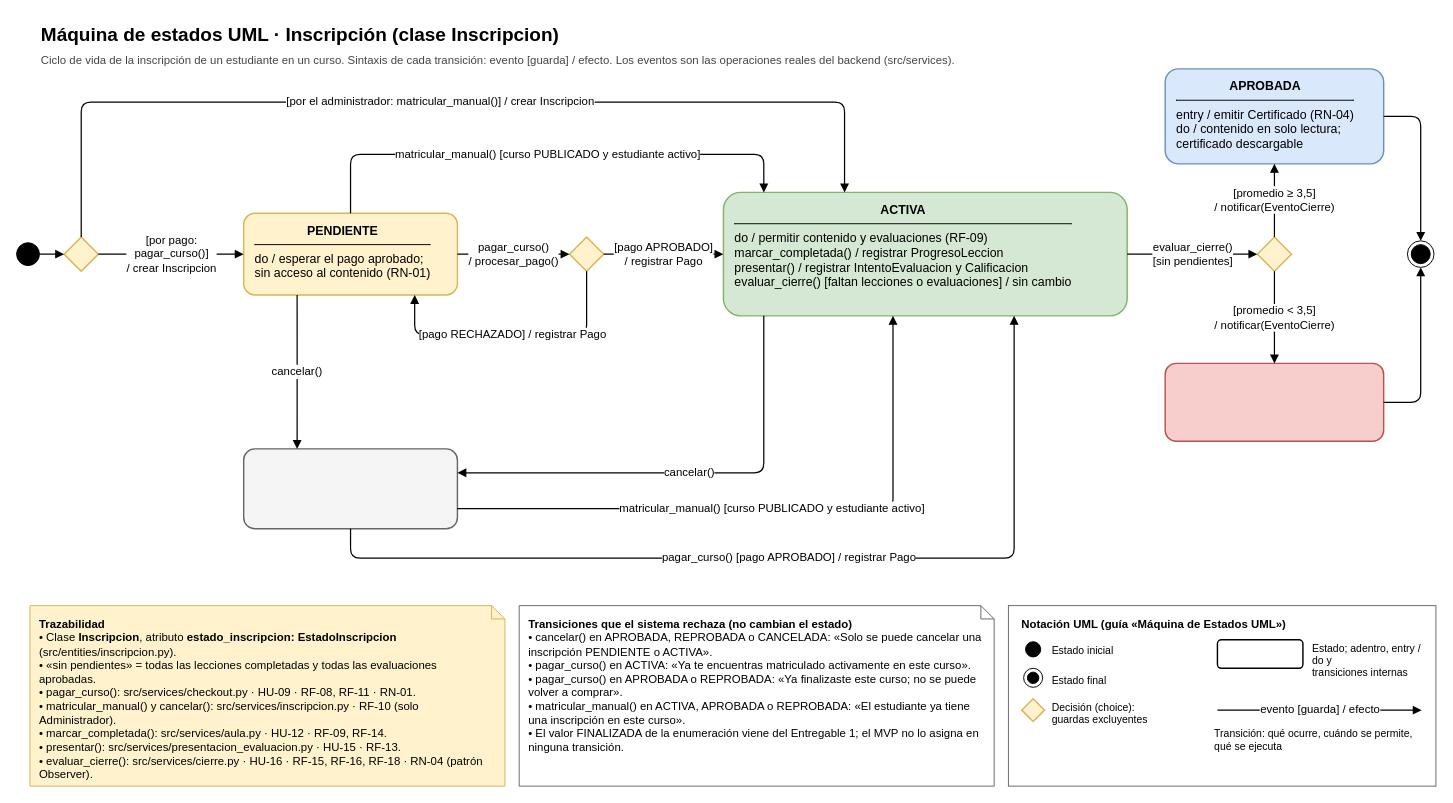
Image size: 1453x803. Some labels were removed from this diagram. Here are the shapes that lost their labels. From the top down, the centre of each, then its label:
At (1274,402): "REPROBADA do / contenido en solo lectura; sin certificado".
At (350,488): "CANCELADA do / sin acceso al contenido (RF-09)".
At (1259,654): "ESTADO".
